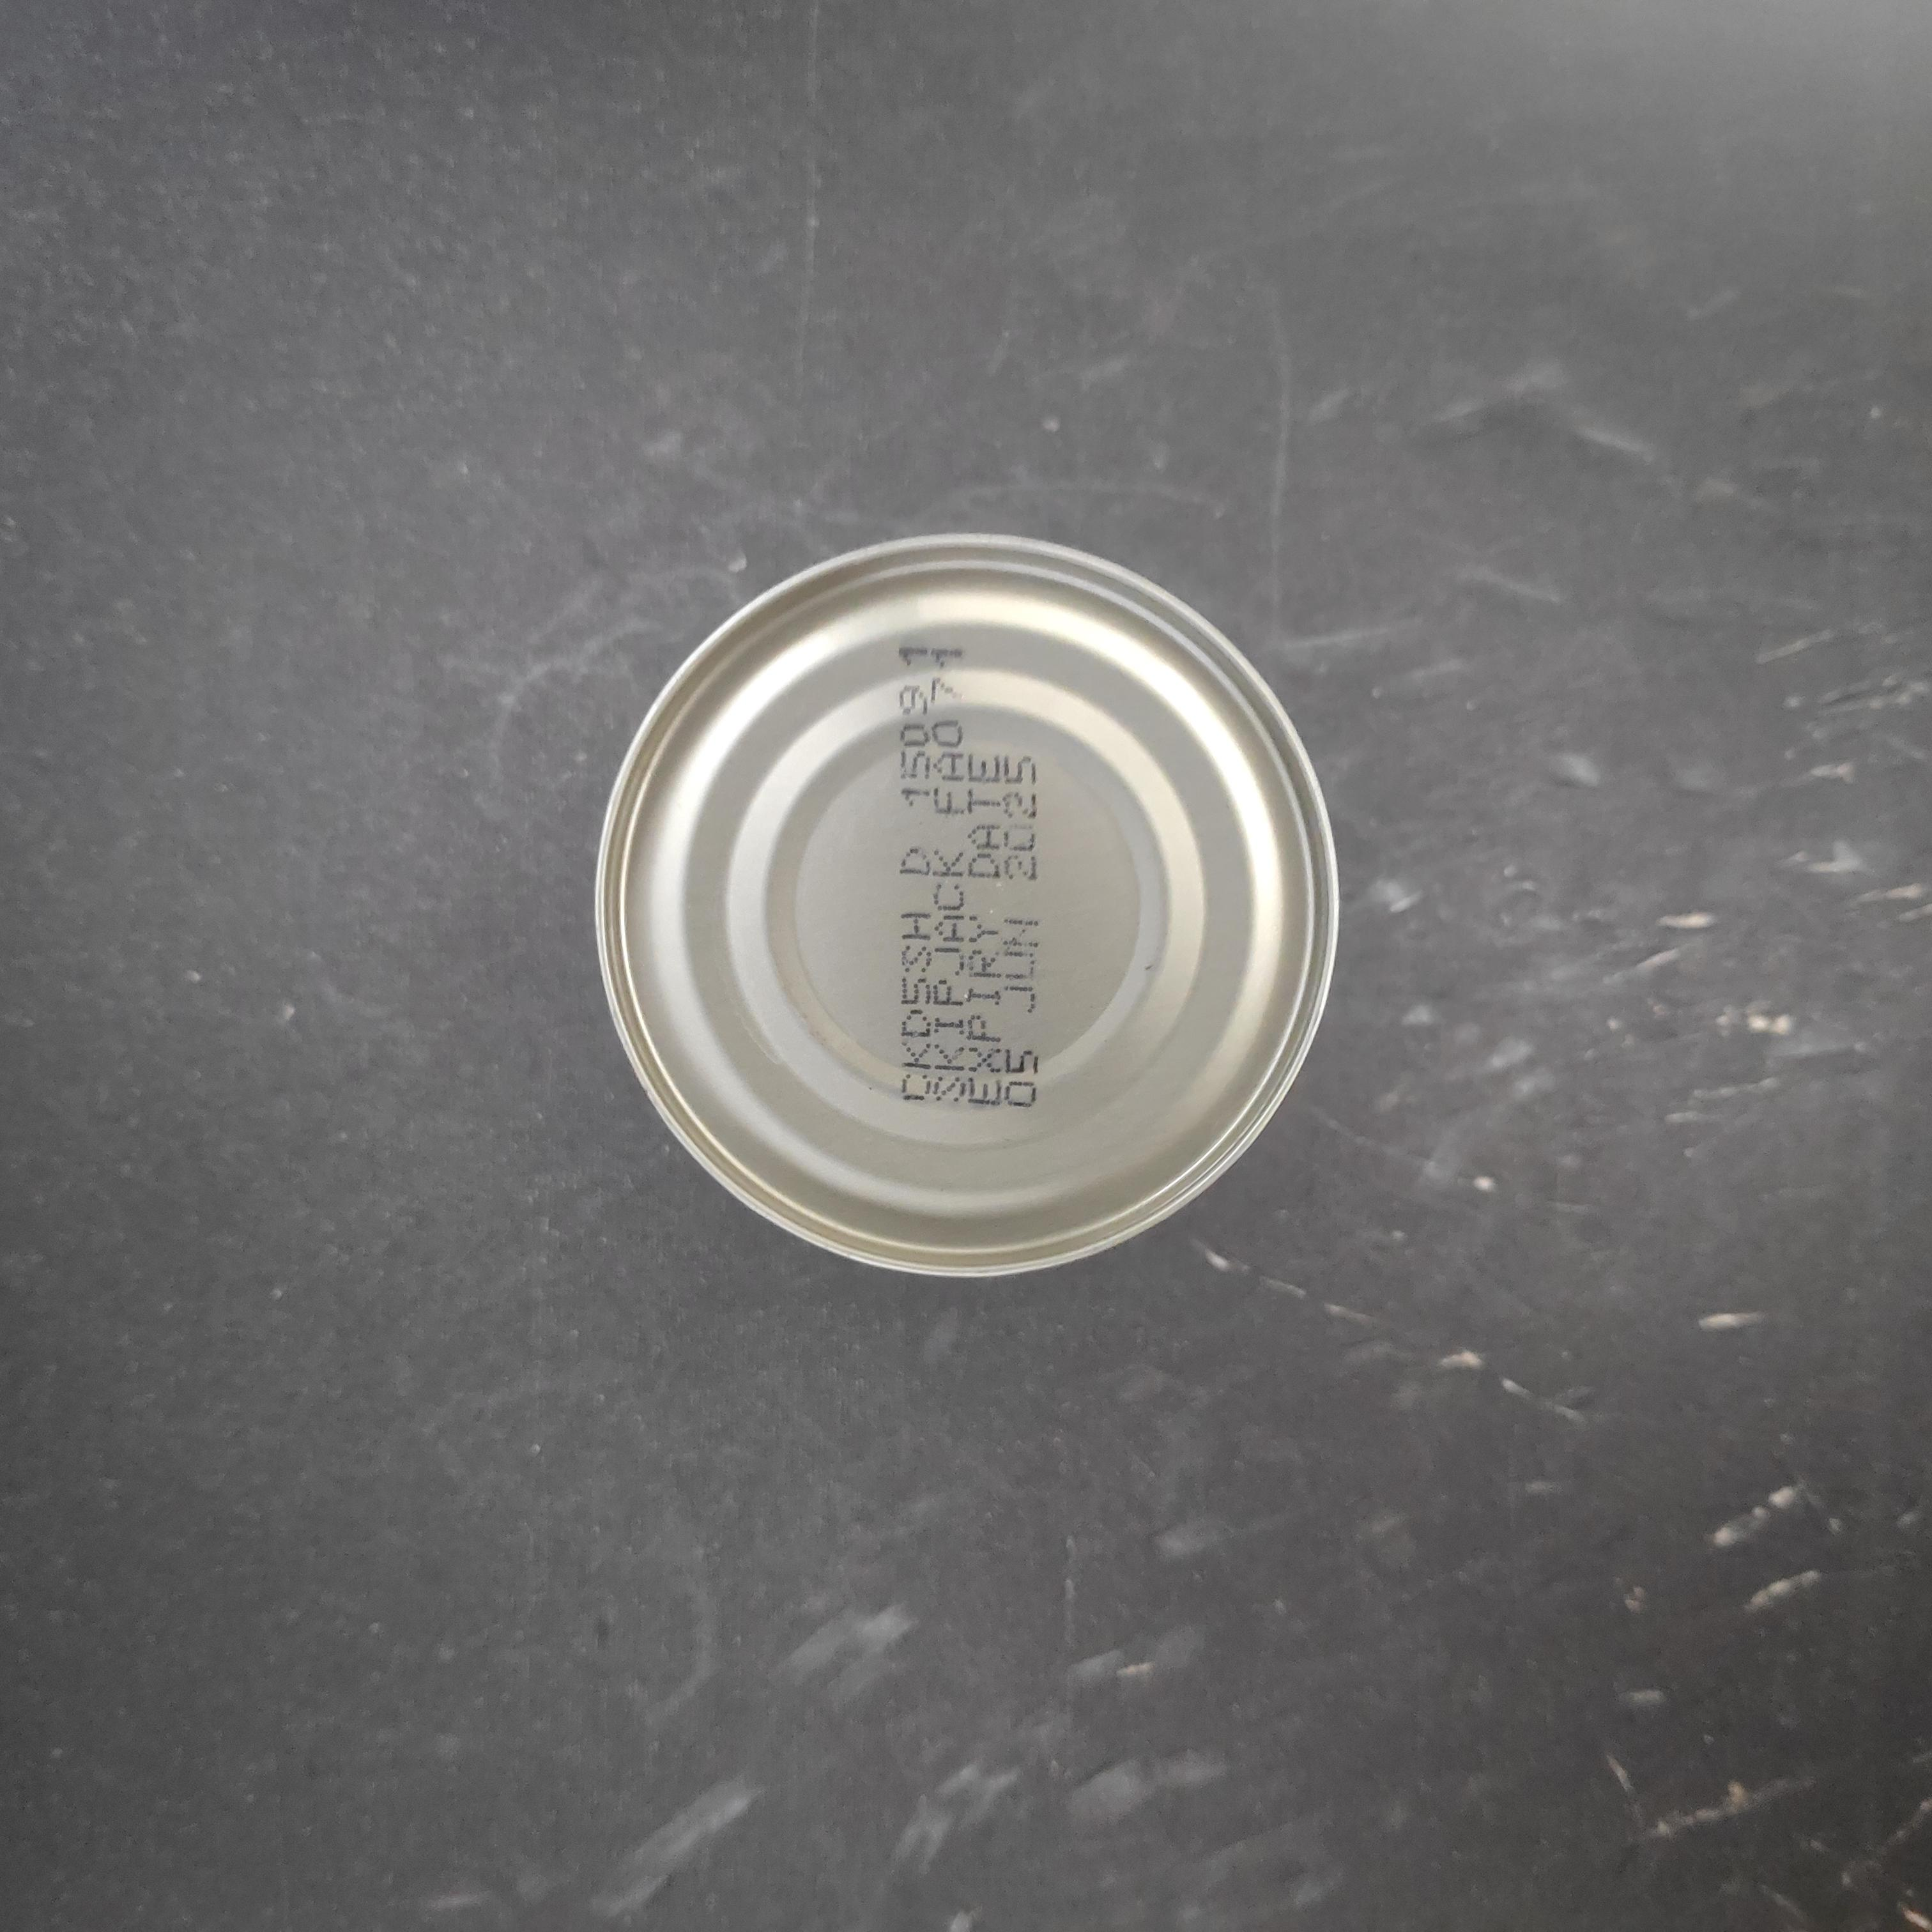No defect: (577, 640, 1359, 1419)
